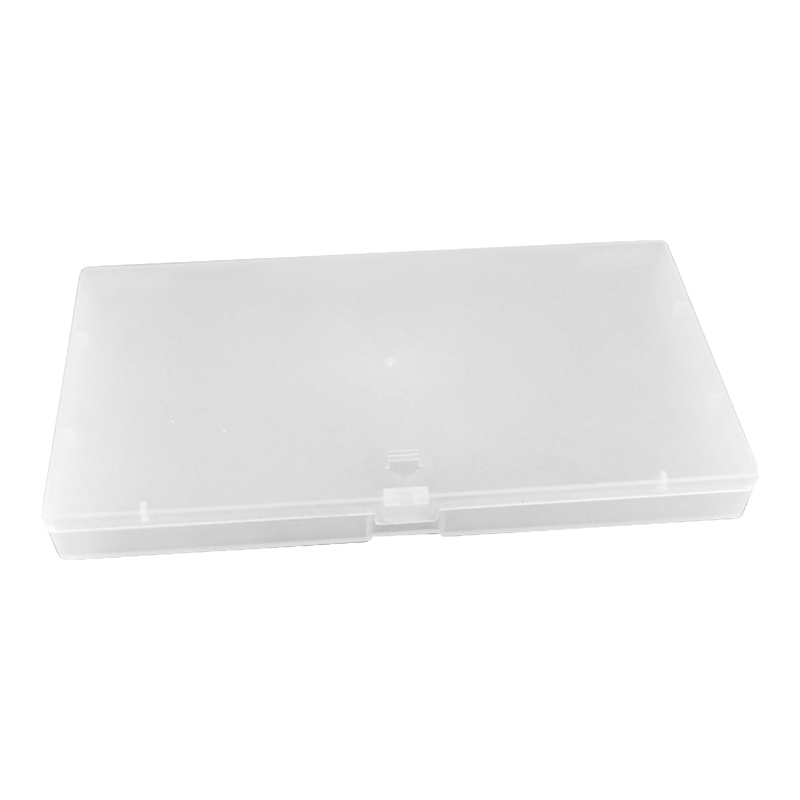PlasticBox: (33, 227, 764, 563)
